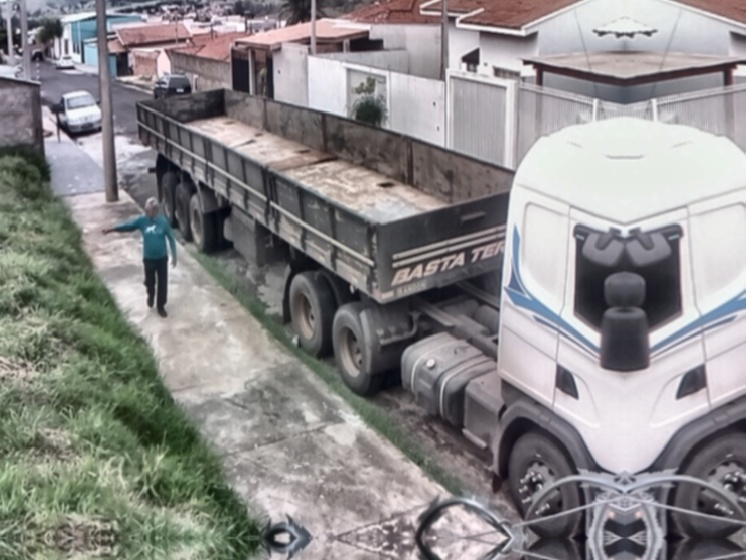person: (98, 193, 179, 323)
